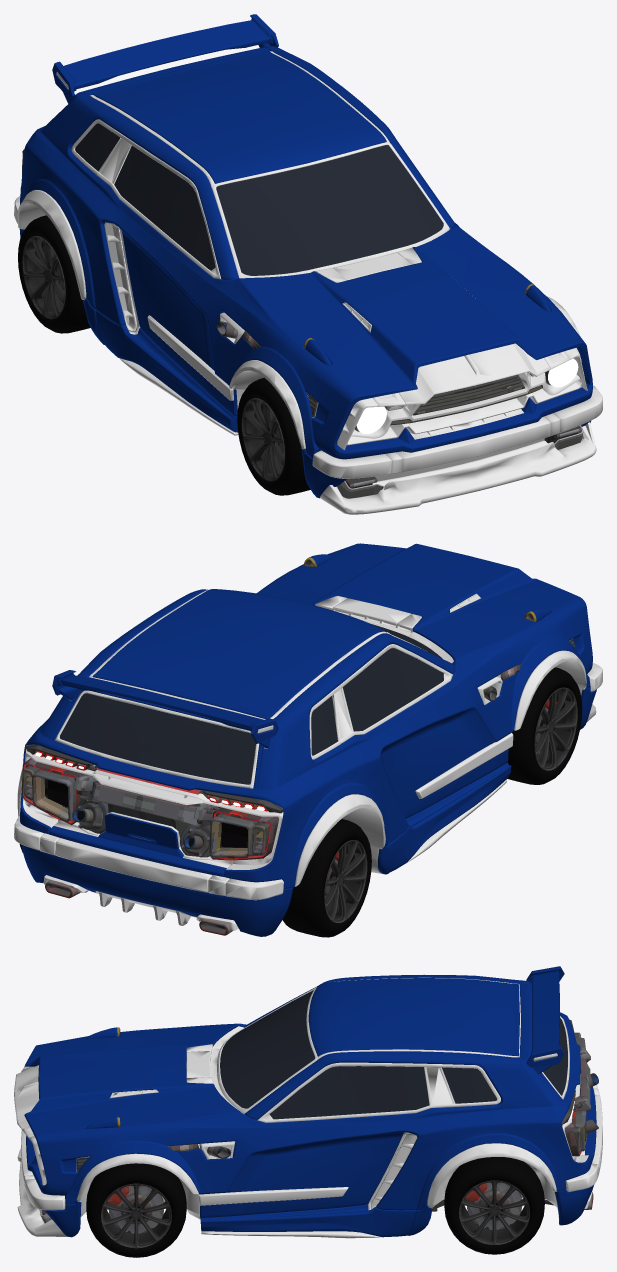
Rendered from Car.glb.
The picture shows the model from 3 angles, top to bottom: view 1: azimuth 30°, elevation 25°; view 2: azimuth 150°, elevation 25°; view 3: azimuth 270°, elevation 25°; orthographic projection. The views are drawn at different scales.
Visible parts, largest first — view 1: BodyColor, ChassisColor, Windows, Wheel (×2), Chassis, Glow_ffffff; view 2: BodyColor, ChassisColor, Windows, Chassis, Wheel (×2), Glow_ff1f1f; view 3: BodyColor, ChassisColor, Windows, Wheel (×2), Chassis.
Boxes of the visible parts, box(x1,y1,x2,y2) form: BodyColor: box(19, 14, 592, 498); ChassisColor: box(14, 51, 602, 514); Windows: box(75, 123, 443, 275); Wheel (×2): box(18, 215, 310, 495); Chassis: box(22, 148, 583, 498); Glow_ffffff: box(356, 358, 578, 433); BodyColor: box(20, 543, 596, 936); ChassisColor: box(14, 590, 602, 930); Windows: box(59, 623, 443, 784); Chassis: box(22, 557, 575, 935); Wheel (×2): box(19, 667, 582, 937); Glow_ff1f1f: box(23, 750, 271, 860); BodyColor: box(24, 966, 596, 1237); ChassisColor: box(14, 977, 602, 1238); Windows: box(220, 990, 567, 1119); Wheel (×2): box(86, 1157, 544, 1257); Chassis: box(39, 1020, 598, 1233).
Size of the model in its own units: 4.27 by 3.07 by 8.4.
Materials: 8 (8 with a texture image).
